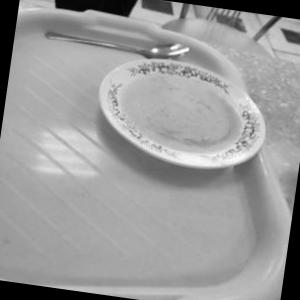porridge: (94, 44, 270, 180)
